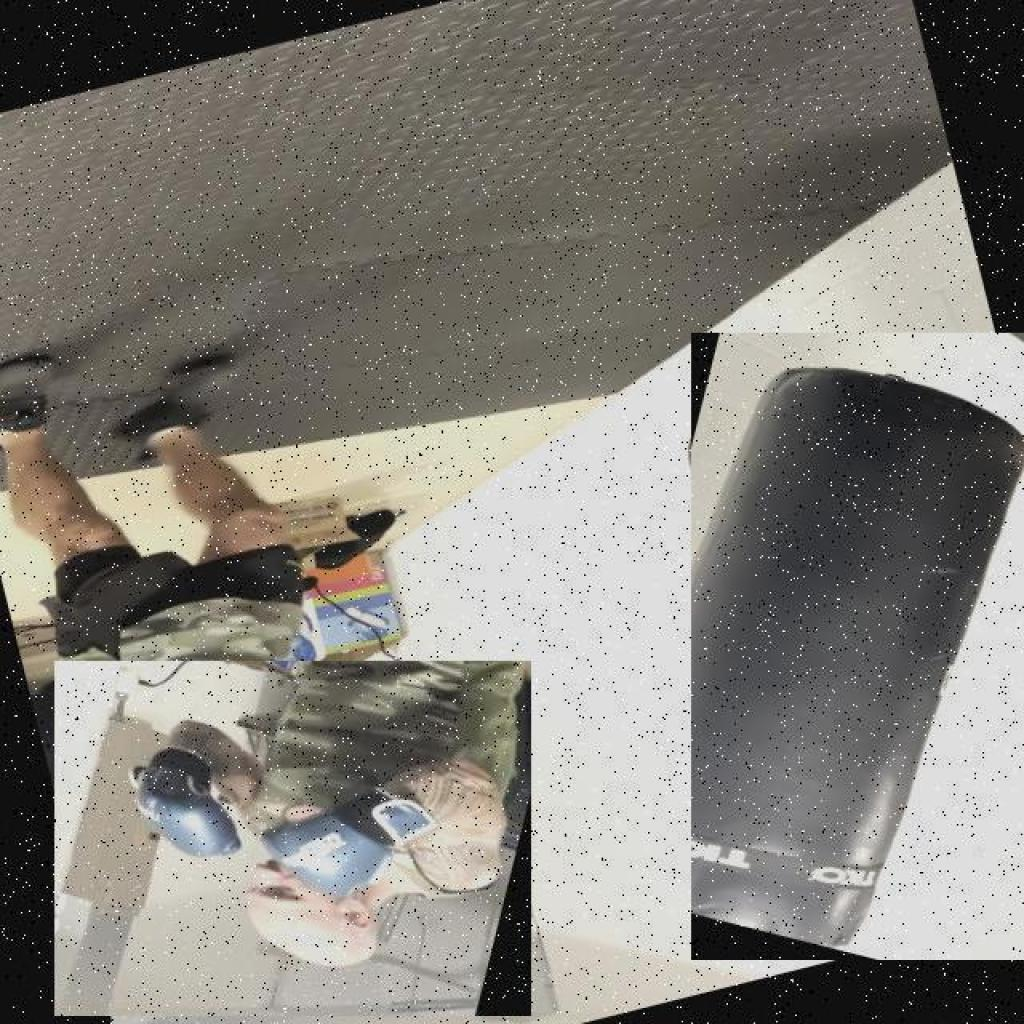bag: (691, 333, 1023, 961)
no punch: (54, 661, 532, 1016)
